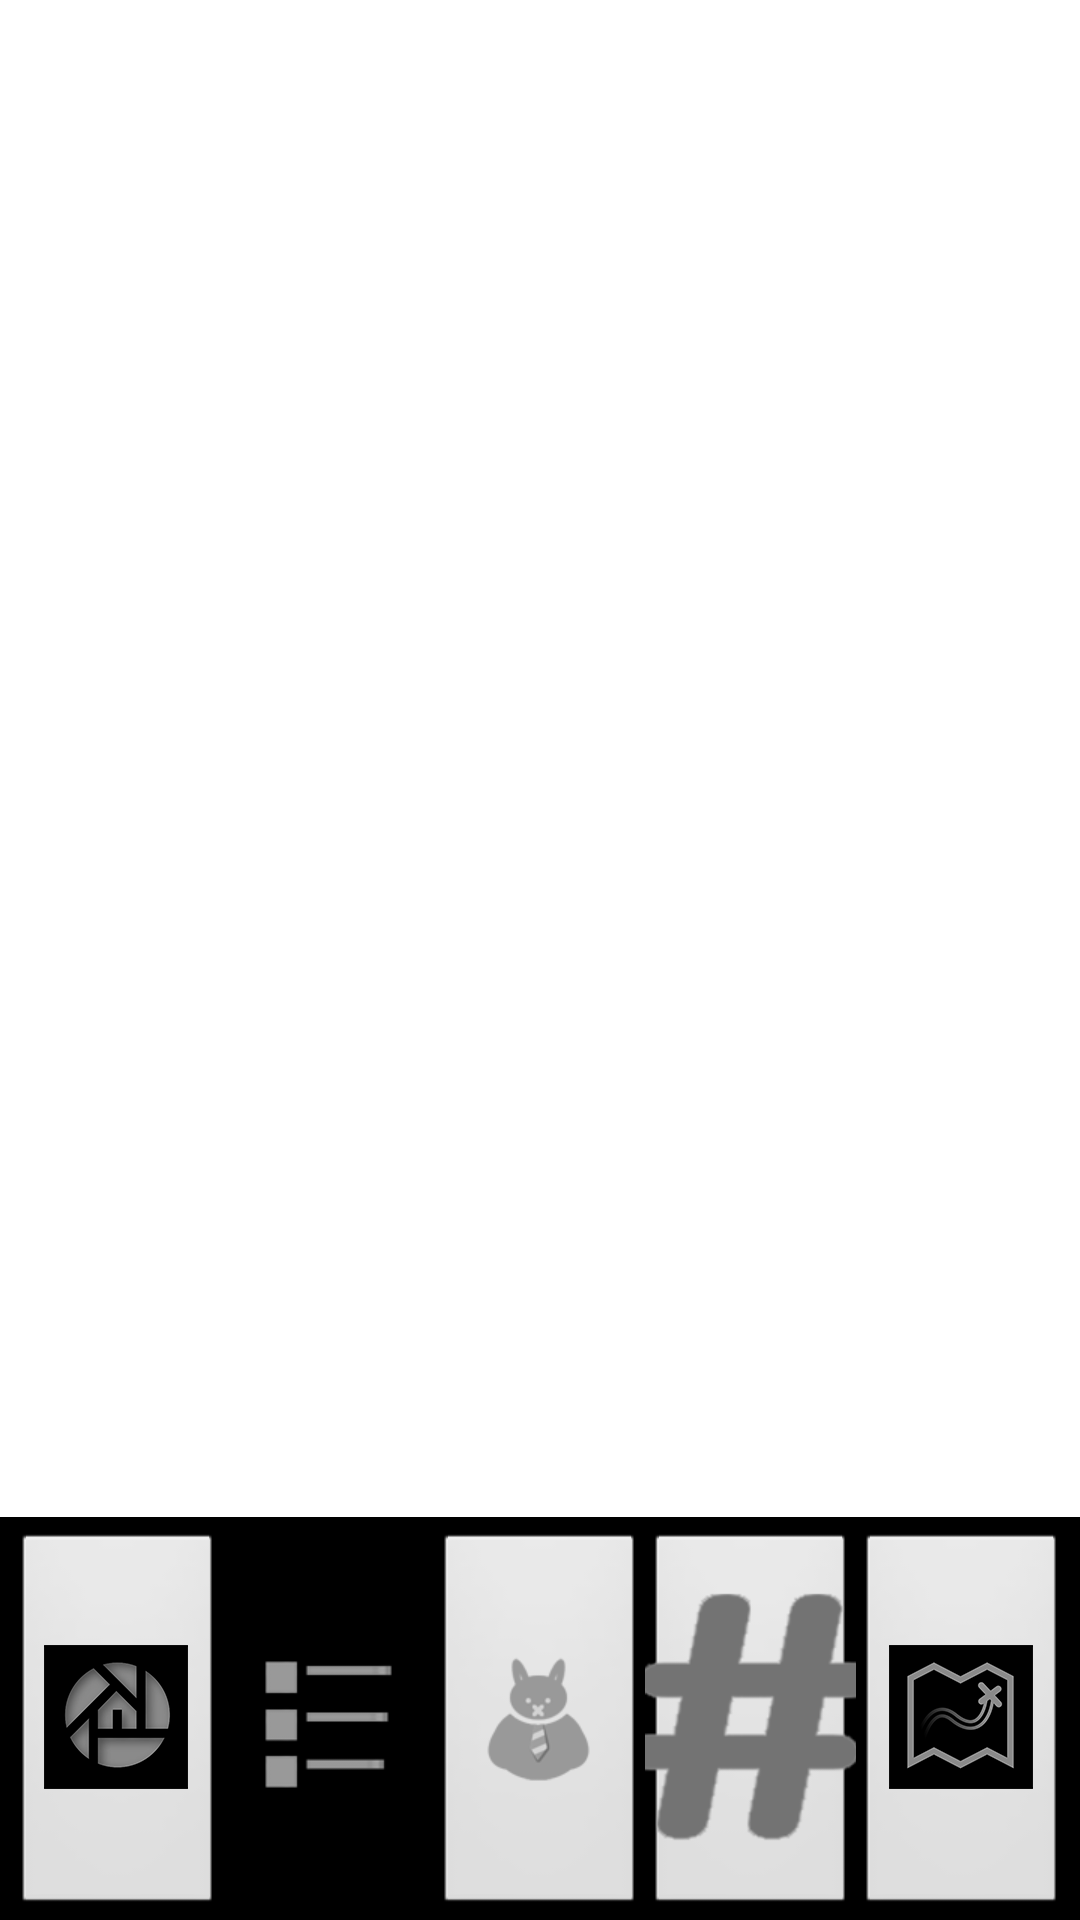

Named icons in this screenshot (1080 x 1920) and their centers, (x=x, y=y):
lists: (x=328, y=1724)
